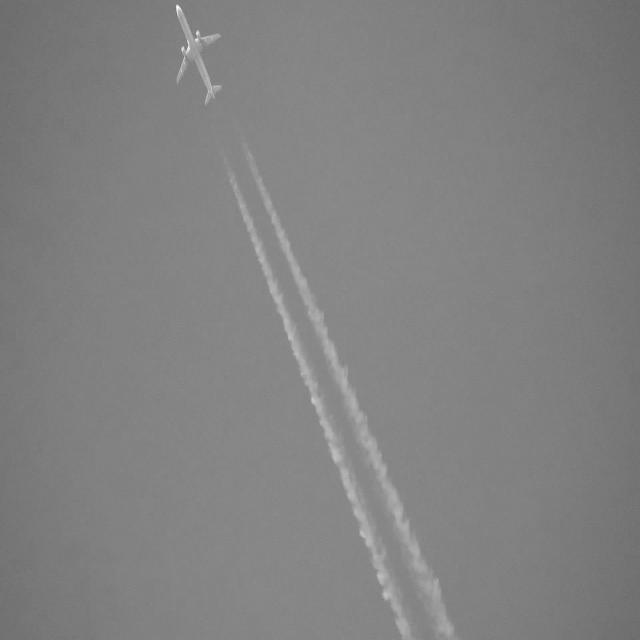aeroplane: (174, 0, 228, 119)
